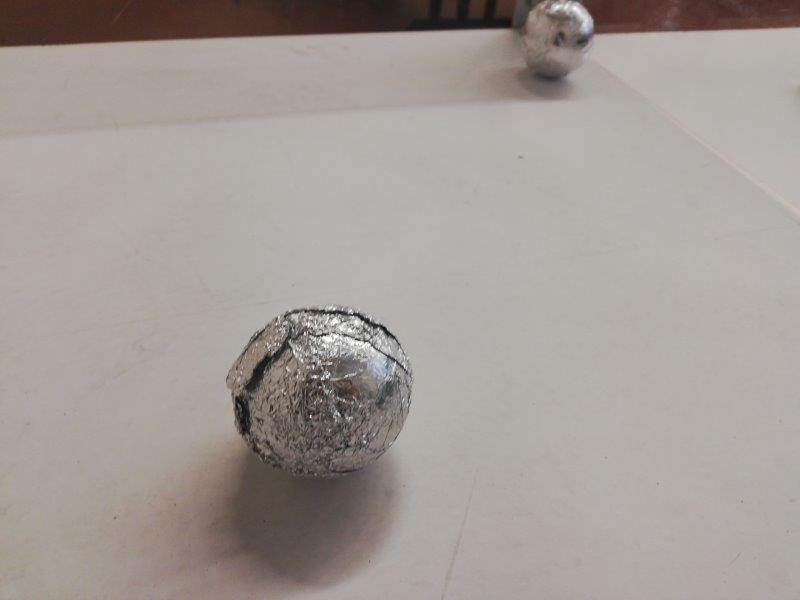bianca: (226, 302, 414, 479), (519, 1, 594, 81)
